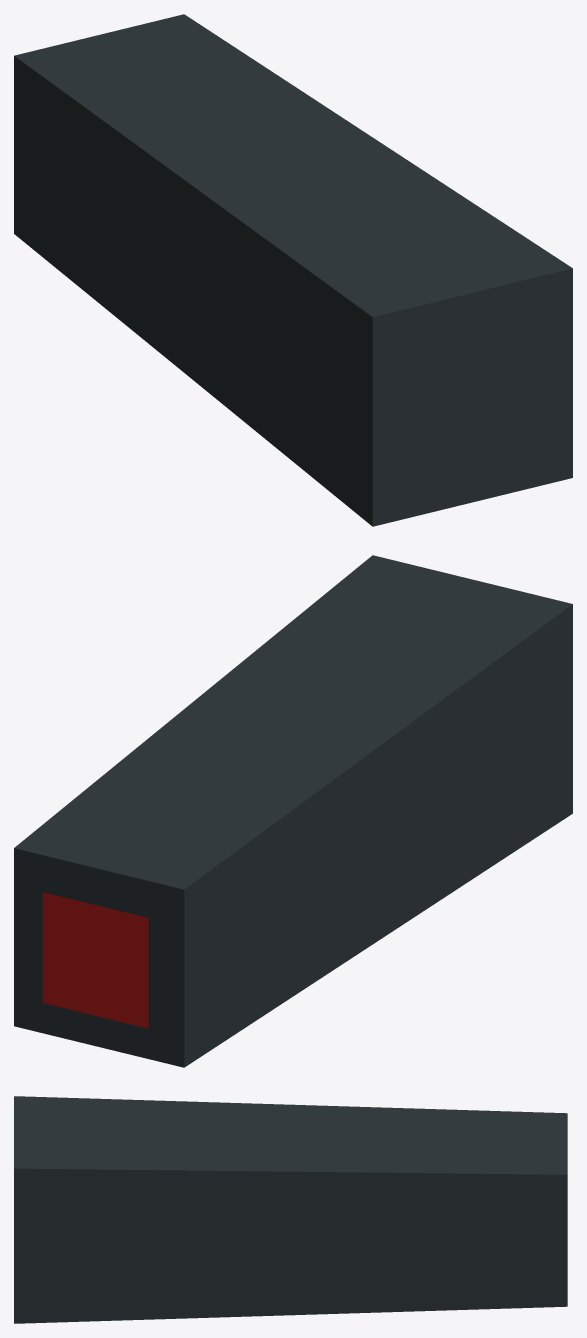
3 views of the same model, one above another, from view 1: azimuth 30°, elevation 25°; view 2: azimuth 150°, elevation 25°; view 3: azimuth 270°, elevation 25° (orthographic). The views are drawn at different scales.
Parts seen in each view (by area): view 1: mount; view 2: mount; view 3: mount.
Boxes of the visible parts, box(x1,y1,x2,y2) form: mount: box(14, 14, 572, 526); mount: box(14, 555, 572, 1067); mount: box(14, 1096, 567, 1323).
Size of the model in its own units: 0.9899 by 0.9899 by 3.23.
